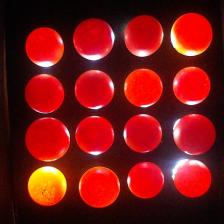fertile: (24, 116, 71, 162), (73, 17, 115, 60), (173, 114, 217, 155), (24, 73, 66, 115), (123, 15, 164, 58), (74, 116, 115, 156), (74, 70, 115, 109), (124, 114, 163, 153)
infertile: (171, 13, 213, 56), (79, 166, 120, 209), (24, 27, 65, 68), (124, 67, 163, 108), (28, 166, 67, 206), (173, 158, 212, 198), (173, 66, 211, 105), (127, 161, 165, 199)
